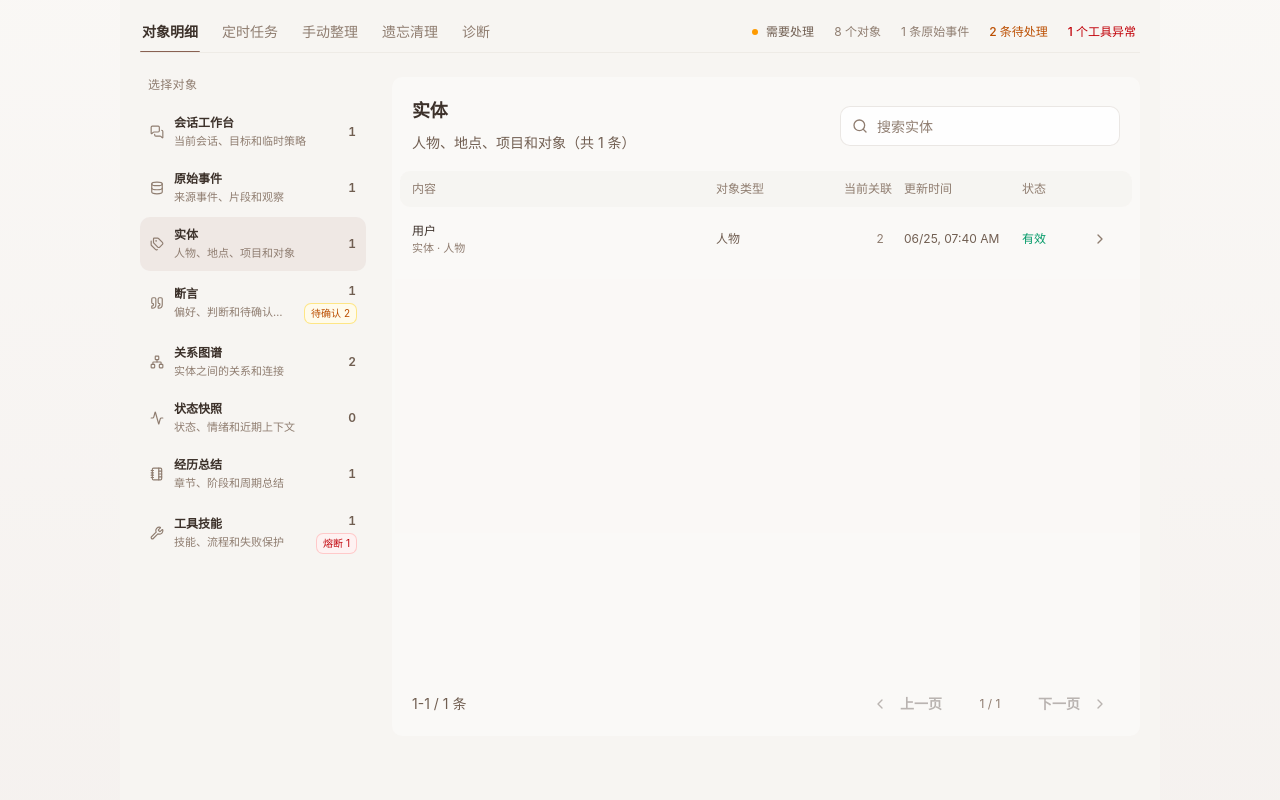
it: MemoryGovernancePage › uses category-specific columns and readable relation statements
Check: the text "对象类型" is shown, box [716,181,764,196]
Check: the text "当前关联" is shown, box [844,181,892,196]
Click the button "原始事件 来源事件、片段和观察 1" at [253, 188], box [140,161,366,215]
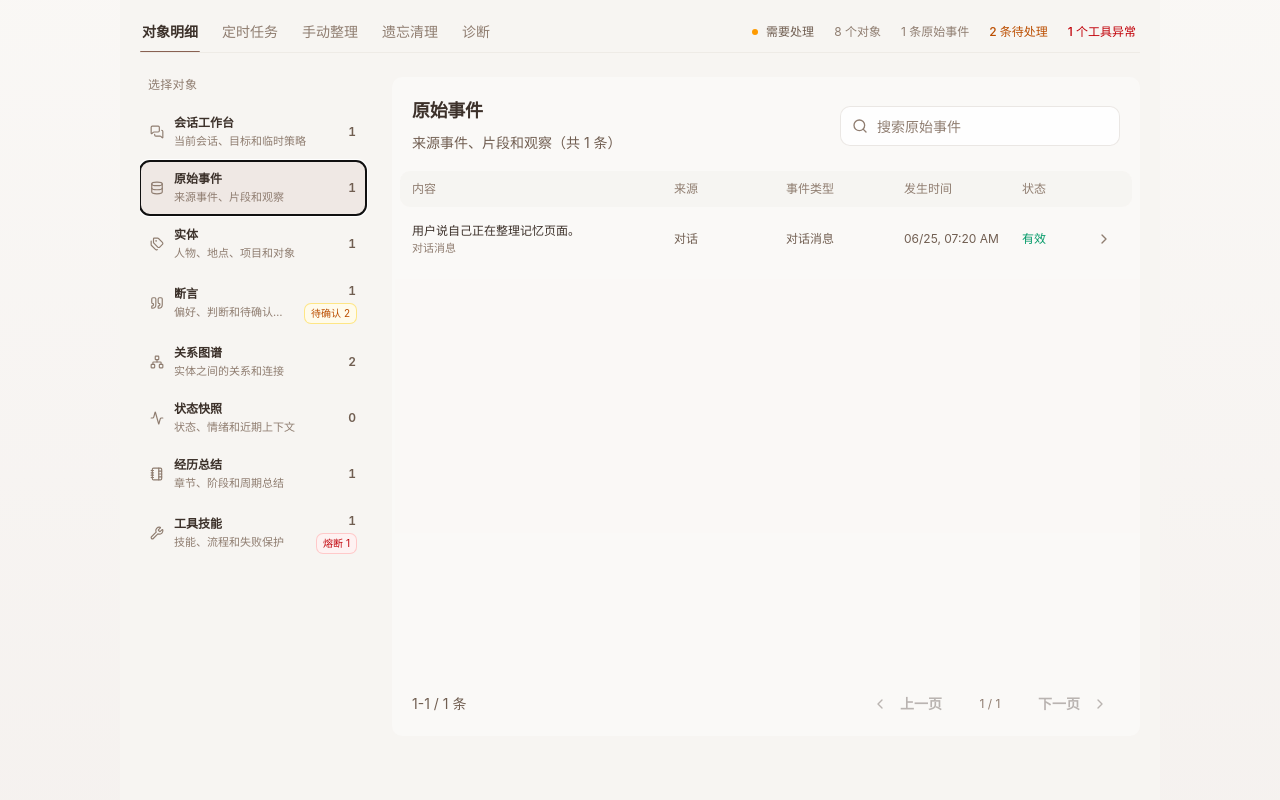
Check: the text "事件类型" is shown, box [786,181,834,196]
Check: the text "发生时间" is shown, box [904,181,952,196]
Check: the text "对话" is shown, box [674,231,698,246]
Click the button "关系图谱 实体之间的关系和连接 2" at [253, 362], box [140,335,366,389]
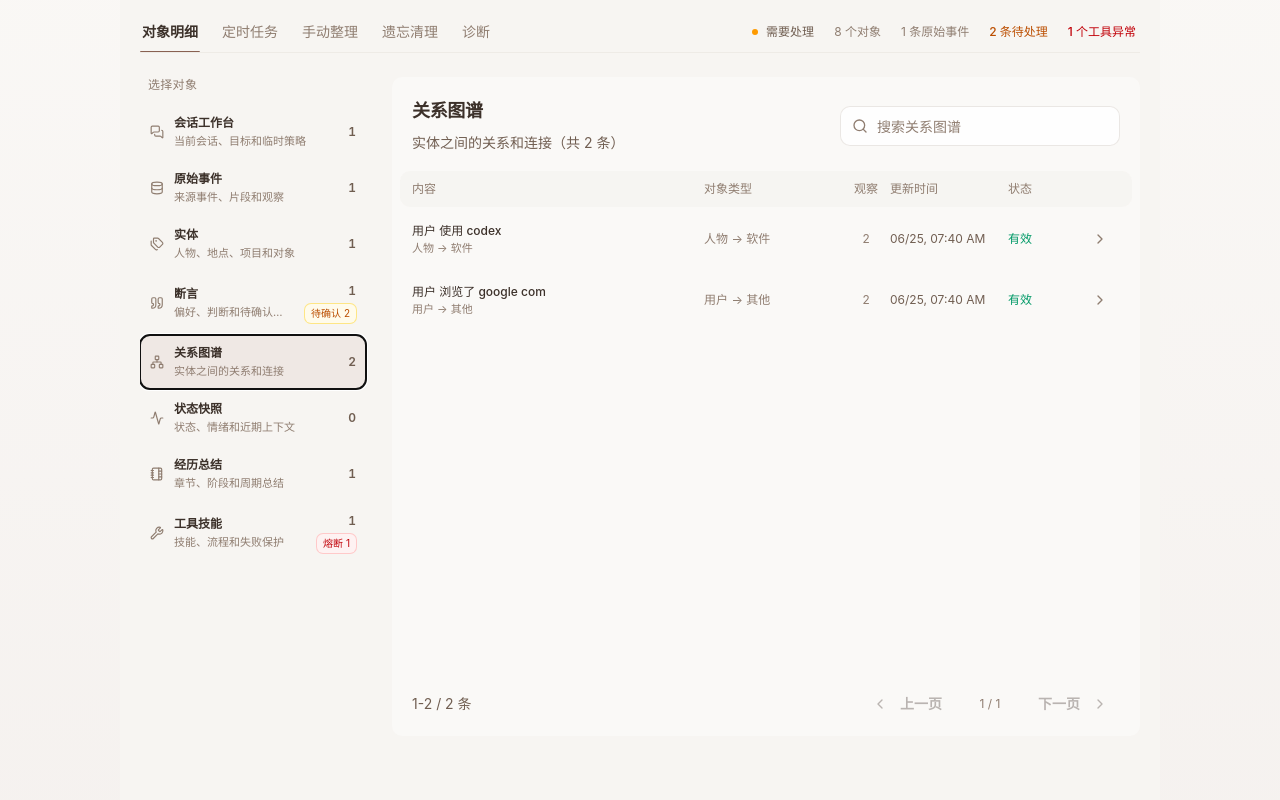
Check: the button with aria-label "打开记录 用户 使用 codex" is shown, box [400,211,1132,268]
Check: the button with aria-label "打开记录 用户 浏览了 google com" is shown, box [400,272,1132,328]
Check: the text "用户 → 其他" is shown 2 times, box [412,302,473,316]; [704,292,770,307]
